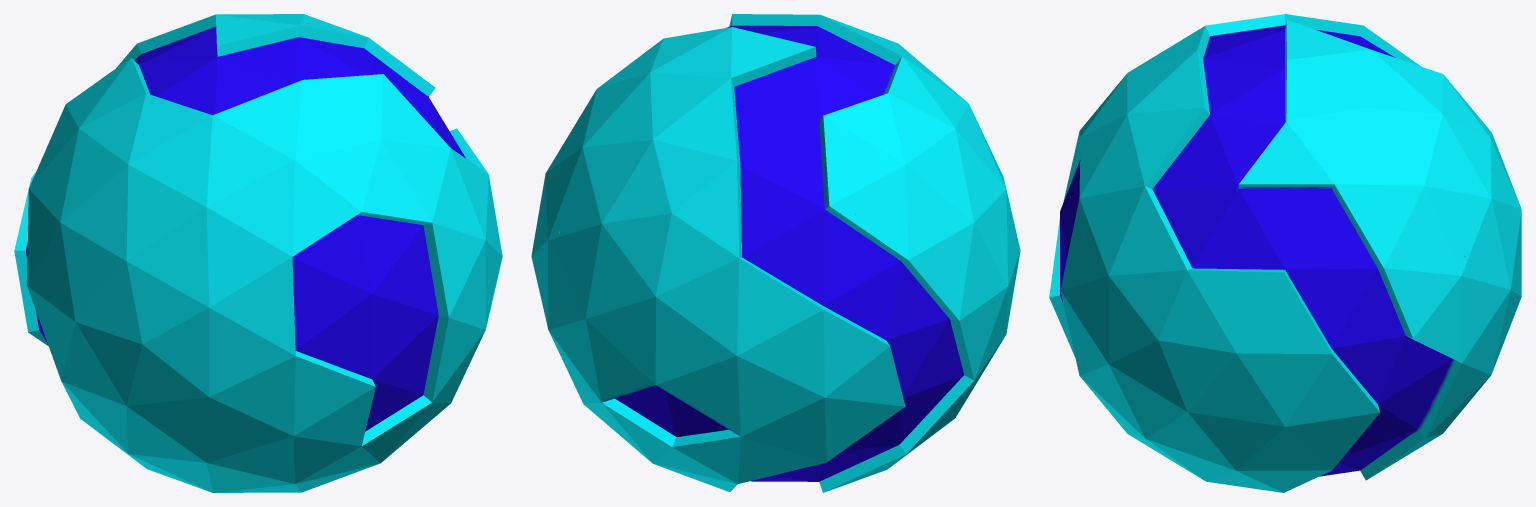
Rendered from Planet1_3.FBX.
3 renders of one model, left to right at view 1: azimuth 30°, elevation 25°; view 2: azimuth 150°, elevation 25°; view 3: azimuth 270°, elevation 25°, orthographic.
Visible parts, largest first — view 1: Planet_1; view 2: Planet_1; view 3: Planet_1.
Boxes of the visible parts, bbox=[...] form: Planet_1: bbox=[14, 14, 502, 492]; Planet_1: bbox=[531, 14, 1020, 492]; Planet_1: bbox=[1049, 14, 1521, 492].
Bounding box in the file's own units: 20.59 × 20.57 × 20.57.
1 material, 1 textured.
